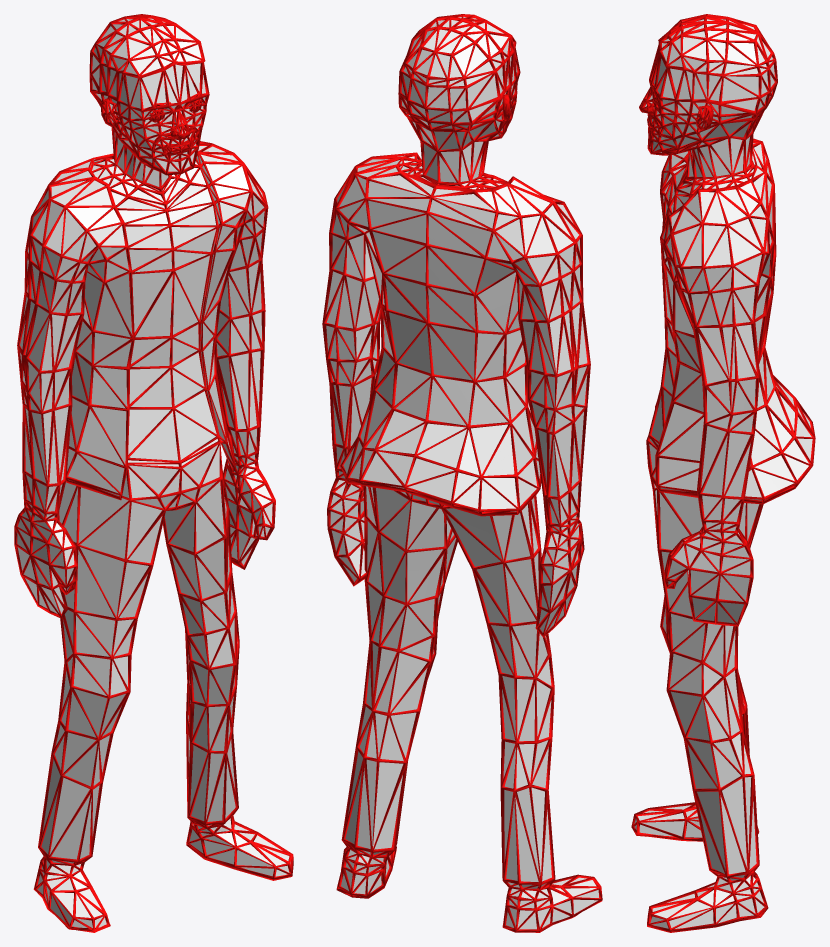
The model's file is elegantIdle_000024.obj.
3 renders of one model, left to right at view 1: azimuth 30°, elevation 25°; view 2: azimuth 150°, elevation 25°; view 3: azimuth 270°, elevation 25°, orthographic. The views are drawn at different scales.
Parts seen in each view (by area): view 1: BaseHuman_Cylinder.002; view 2: BaseHuman_Cylinder.002; view 3: BaseHuman_Cylinder.002.
Part boxes in pixels (bbox=[...]): BaseHuman_Cylinder.002: bbox=[14, 14, 293, 932]; BaseHuman_Cylinder.002: bbox=[322, 14, 602, 932]; BaseHuman_Cylinder.002: bbox=[631, 14, 815, 932].
Size of the model in its own units: 1.44 by 4.84 by 0.9476.
